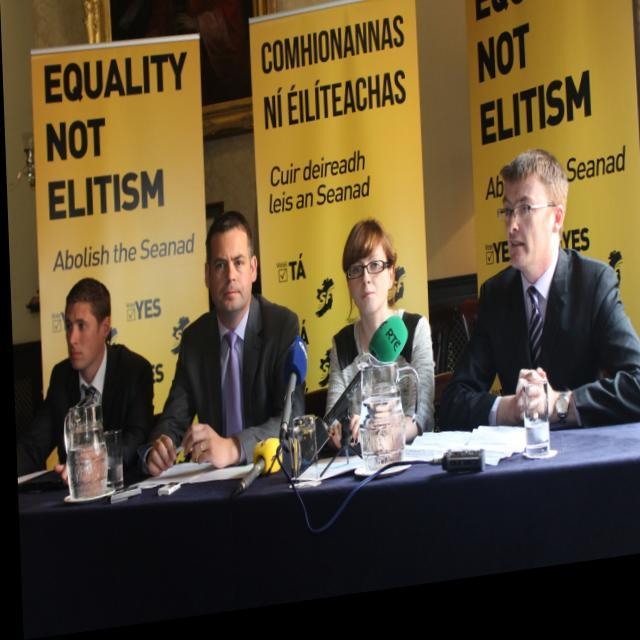Nonhelmet: (486, 141, 574, 276), (199, 202, 269, 314), (338, 216, 407, 322), (56, 271, 117, 372)
